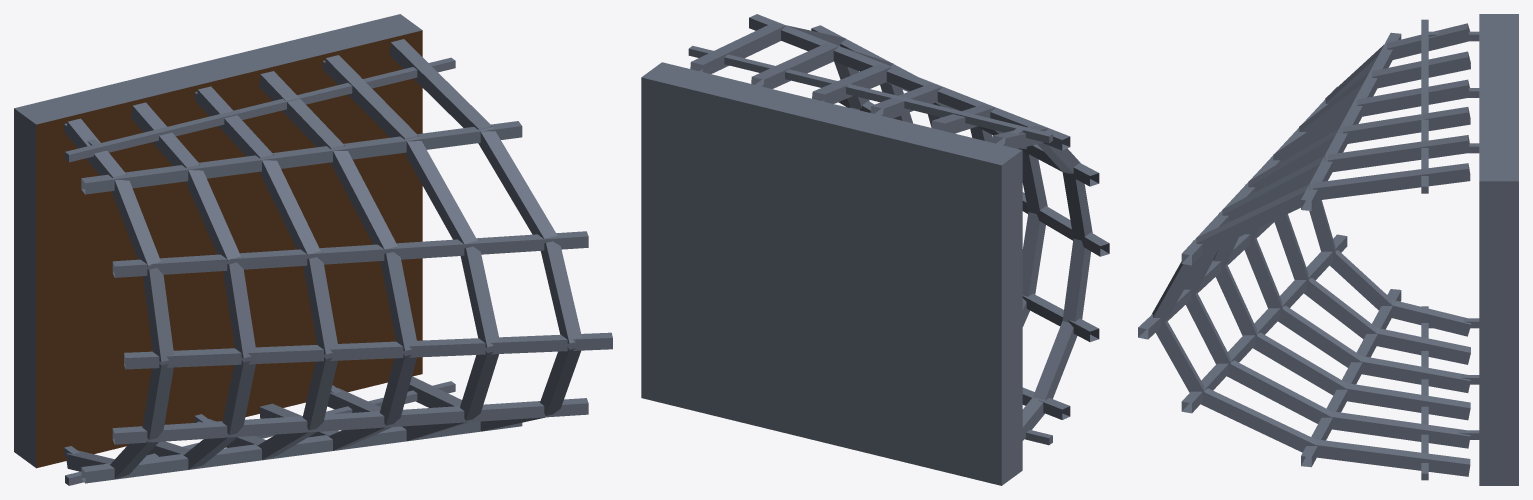
Rendered from north.glb.
The picture shows the model from 3 angles, left to right: view 1: azimuth 30°, elevation 25°; view 2: azimuth 150°, elevation 25°; view 3: azimuth 270°, elevation 25°; orthographic projection. The views are drawn at different scales.
Parts seen in each view (by area): view 1: bridge_12_north; view 2: bridge_12_north; view 3: bridge_12_north.
Part boxes in pixels (bbox=[...]): bridge_12_north: bbox=[14, 14, 612, 485]; bridge_12_north: bbox=[641, 14, 1109, 485]; bridge_12_north: bbox=[1138, 14, 1518, 485].
Size of the model in its own units: 16.19 by 13.74 by 15.4.
